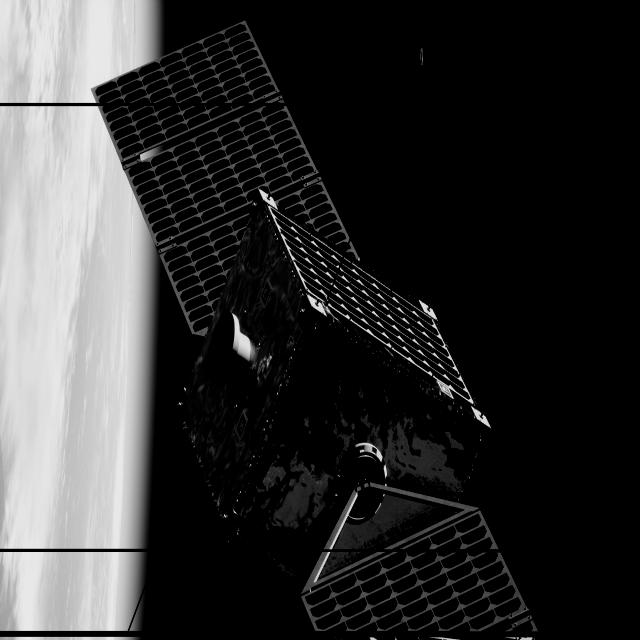medium_debris: (94, 20, 540, 640)
